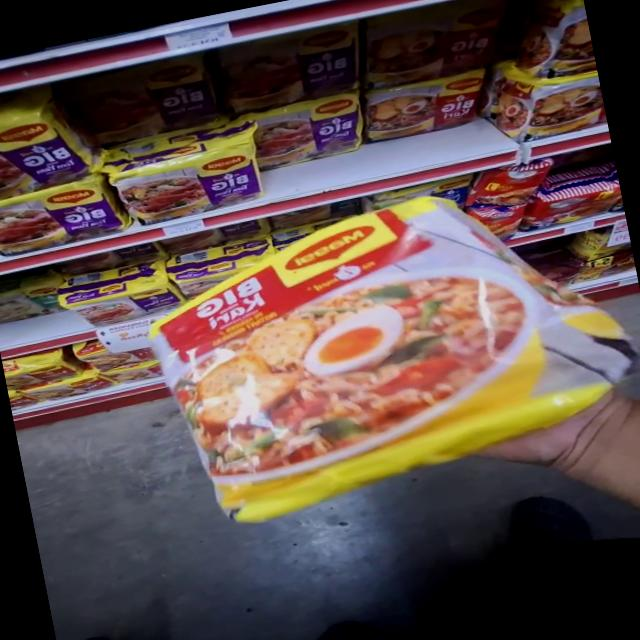Maggi: (131, 173, 616, 535), (109, 121, 266, 226), (0, 173, 122, 266), (358, 71, 494, 146), (0, 95, 101, 195), (476, 68, 597, 144), (250, 96, 368, 172), (2, 345, 116, 421), (491, 0, 596, 82)
